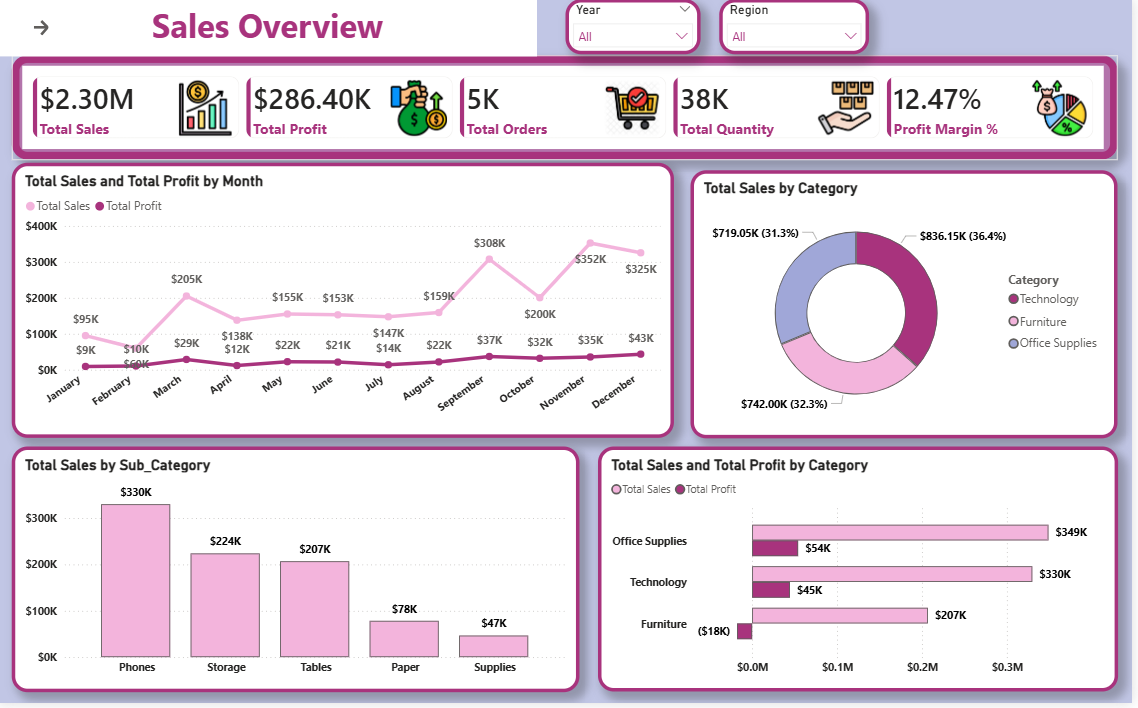

This screenshot's page, from the dashboard's own definition file:
{"tool":"powerbi","page":{"name":"Sales Overview","canvas":[1297,805],"ordinal":0},"visuals":[{"type":"cardVisual","fields":{"Data":["DimCustomer.Total Sales","DimCustomer.Total Profit","DimCustomer.Total Orders","DimCustomer.Total Quantity","DimCustomer.Profit Margin %"]},"box":[16.1,64.6,1264,119.2],"z":0},{"type":"textbox","box":[0,0,615.7,65.7],"z":1000},{"type":"lineChart","title":"Total Sales and Total Profit by Month","fields":{"Y":["DimCustomer.Total Sales","DimCustomer.Total Profit"],"Category":["DimDate.MonthnName"]},"box":[16.2,187.5,756.7,314.3],"z":2000},{"type":"slicer","fields":{"Values":["DimDate.Year"]},"box":[648.6,0,154.3,62.9],"z":3000},{"type":"donutChart","fields":{"Category":["DimProduct.Category"],"Y":["DimCustomer.Total Sales"]},"box":[791.8,195.6,488.3,306.7],"z":5000},{"type":"clusteredColumnChart","fields":{"Category":["DimProduct.Sub_Category"],"Y":["DimCustomer.Total Sales"]},"box":[16.2,511.2,648.8,280.6],"z":6000},{"type":"clusteredBarChart","fields":{"Category":["DimProduct.Category"],"Y":["DimCustomer.Total Sales","DimCustomer.Total Profit"]},"box":[685.7,511.4,594.3,280],"z":7000},{"type":"slicer","fields":{"Values":["DimRegion.Region"]},"box":[824.3,0,171.4,62.9],"z":7003},{"type":"actionButton","box":[0,0,100,65.7],"z":7004}]}

Visuals, with their boxes in screenshot pixels (x1, y1, x2, y2), scaled from the page's 1297x805 canvas onto the 1138x708 screenshot:
cardVisual - DimCustomer.Total Sales x DimCustomer.Total Profit: [14, 57, 1123, 162]
textbox: [0, 0, 540, 58]
"Total Sales and Total Profit by Month" lineChart: [14, 165, 678, 441]
slicer - DimDate.Year: [569, 0, 704, 55]
donutChart - DimProduct.Category x DimCustomer.Total Sales: [695, 172, 1123, 442]
clusteredColumnChart - DimProduct.Sub_Category x DimCustomer.Total Sales: [14, 450, 583, 696]
clusteredBarChart - DimProduct.Category x DimCustomer.Total Sales: [602, 450, 1123, 696]
slicer - DimRegion.Region: [723, 0, 874, 55]
actionButton: [0, 0, 88, 58]
